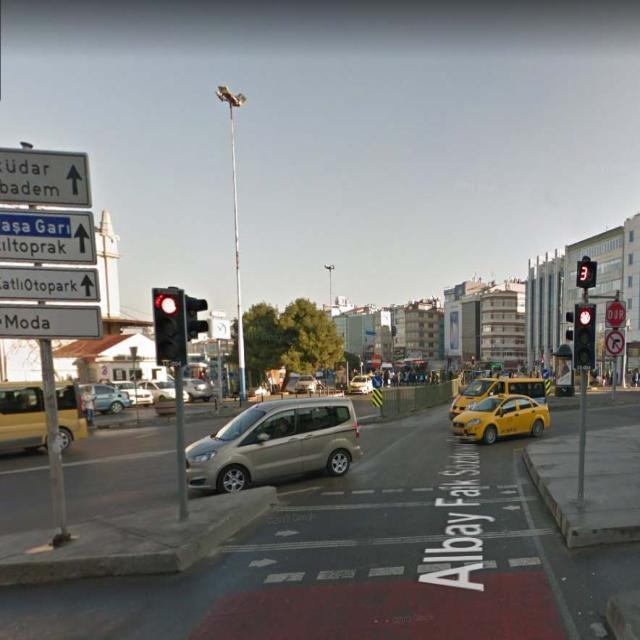dur: (606, 302, 624, 326)
girisyok: (372, 354, 382, 368)
kirmizi: (153, 288, 185, 366), (574, 302, 595, 370)
sagadonulmez: (606, 331, 625, 355)
